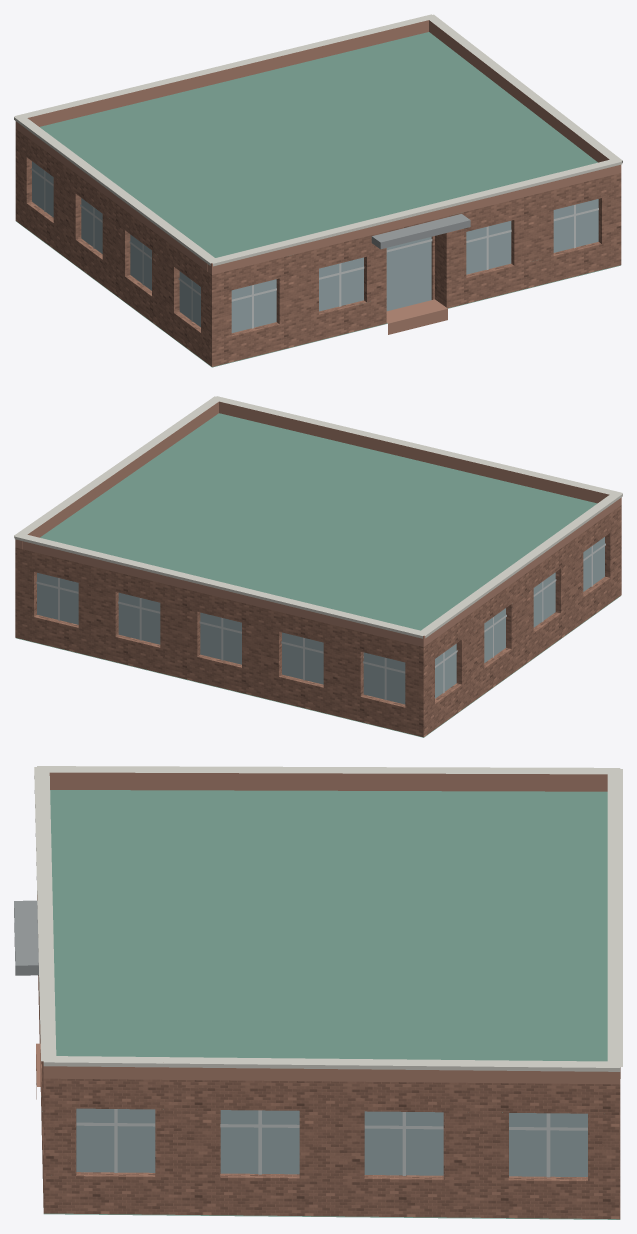
3 views of the same model, one above another, from view 1: azimuth 30°, elevation 25°; view 2: azimuth 150°, elevation 25°; view 3: azimuth 270°, elevation 25° (orthographic). The views are drawn at different scales.
Parts seen in each view (by area): view 1: richardson__roof, richardson__wall, richardson__glass, richardson__parapet, richardson__trim, richardson__frame, richardson__canopy, richardson__entranceThreshold; view 2: richardson__roof, richardson__wall, richardson__parapet, richardson__glass, richardson__trim, richardson__frame; view 3: richardson__roof, richardson__wall, richardson__trim, richardson__glass, richardson__parapet, richardson__frame, richardson__canopy.
Part boxes in pixels (x1,y1,x2,y2): richardson__roof: (16,32,620,367); richardson__wall: (15,129,621,366); richardson__glass: (32,161,598,332); richardson__parapet: (15,20,621,274); richardson__trim: (14,14,622,266); richardson__frame: (31,168,598,328); richardson__canopy: (371,214,470,249); richardson__entranceThreshold: (386,299,447,334); richardson__roof: (16,413,620,737); richardson__wall: (15,505,621,737); richardson__parapet: (15,401,621,646); richardson__glass: (37,537,604,704); richardson__trim: (14,396,622,638); richardson__frame: (36,543,605,700); richardson__roof: (39,790,620,1219); richardson__wall: (37,895,620,1219); richardson__trim: (34,766,622,1071); richardson__glass: (76,1108,587,1176); richardson__parapet: (43,772,620,1084); richardson__frame: (76,1109,587,1177); richardson__canopy: (14,900,38,975).
Bounding box in the file's own units: 16.81 × 4.35 × 14.32.
Materials: 9 (1 with a texture image).
